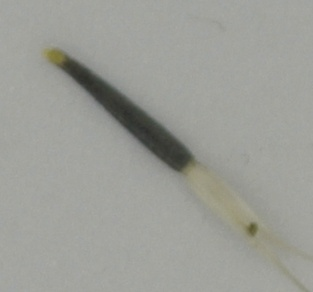เมล็ดดีเรียวยาว: (49, 45, 306, 271)
